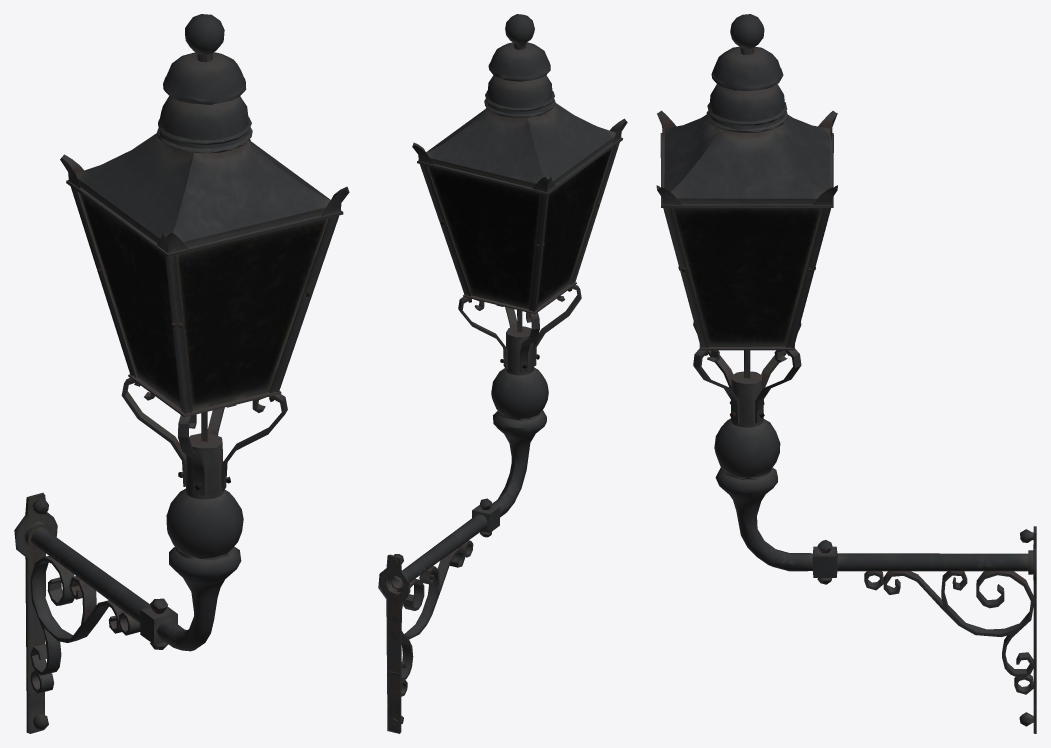
Rendered from street_lamp_02.glb.
3 views of the same model, side by side, from view 1: azimuth 30°, elevation 25°; view 2: azimuth 150°, elevation 25°; view 3: azimuth 270°, elevation 25° (orthographic). The views are drawn at different scales.
Parts seen in each view (by area): view 1: street_lamp_02; view 2: street_lamp_02; view 3: street_lamp_02.
Part boxes in pixels (left/top/right/bottom): street_lamp_02: left=14, top=14, right=349, bottom=733; street_lamp_02: left=378, top=14, right=627, bottom=733; street_lamp_02: left=656, top=14, right=1036, bottom=733.
Size of the model in its own units: 0.3854 by 1.67 by 0.8063.
1 material, 1 textured.
